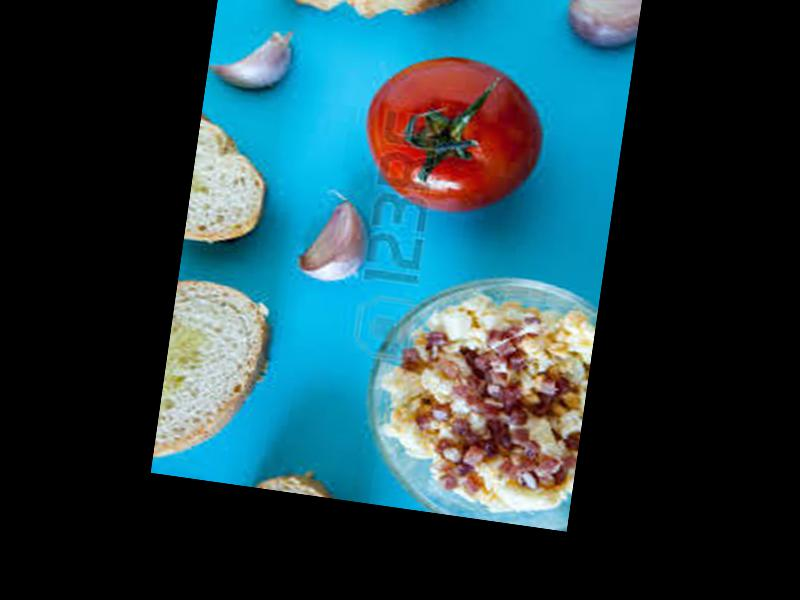Tomato: (355, 45, 551, 217)
